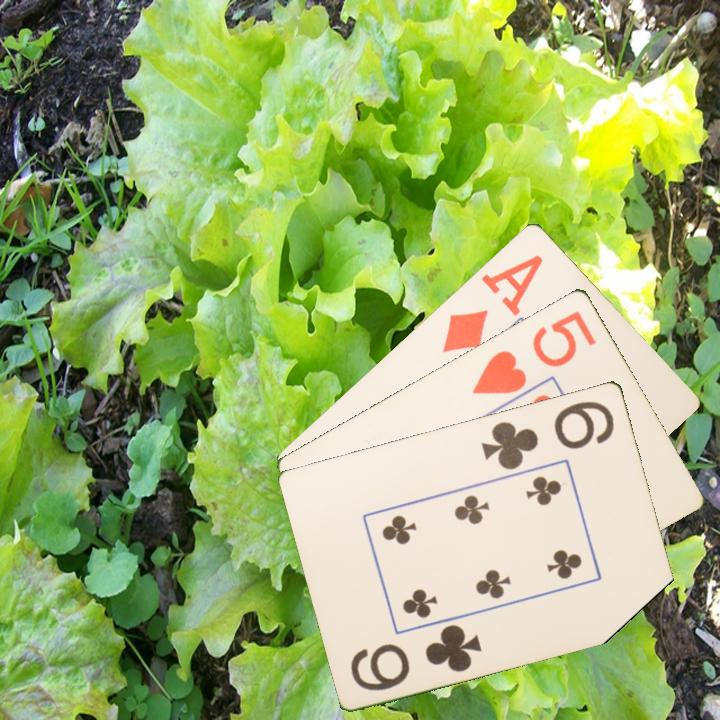5h: (468, 306, 600, 397)
6c: (478, 397, 618, 472), (347, 620, 486, 694)
Ad: (438, 250, 546, 355)
